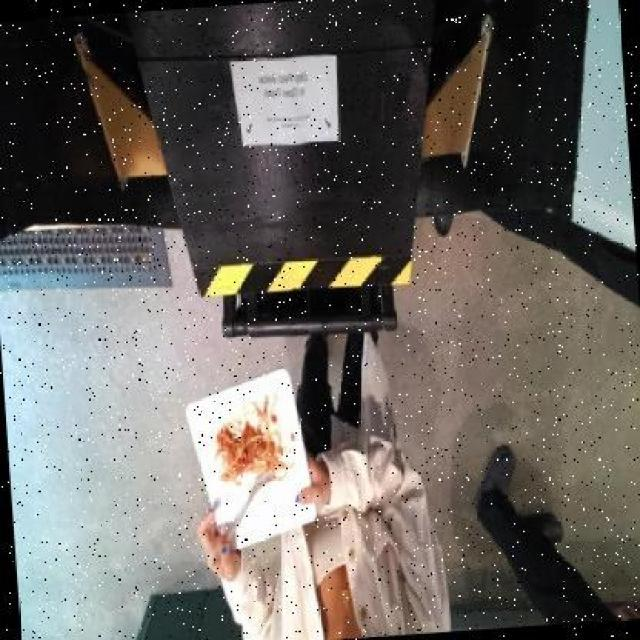Anorganik: (183, 370, 320, 558)
Organik: (217, 413, 285, 482)
